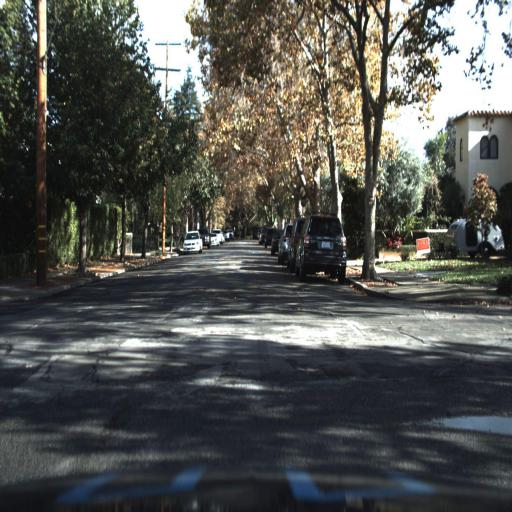car: (297, 211, 348, 284), (440, 209, 503, 261), (287, 214, 302, 277), (278, 218, 292, 266), (183, 230, 206, 254), (182, 229, 204, 254), (208, 232, 219, 249)
